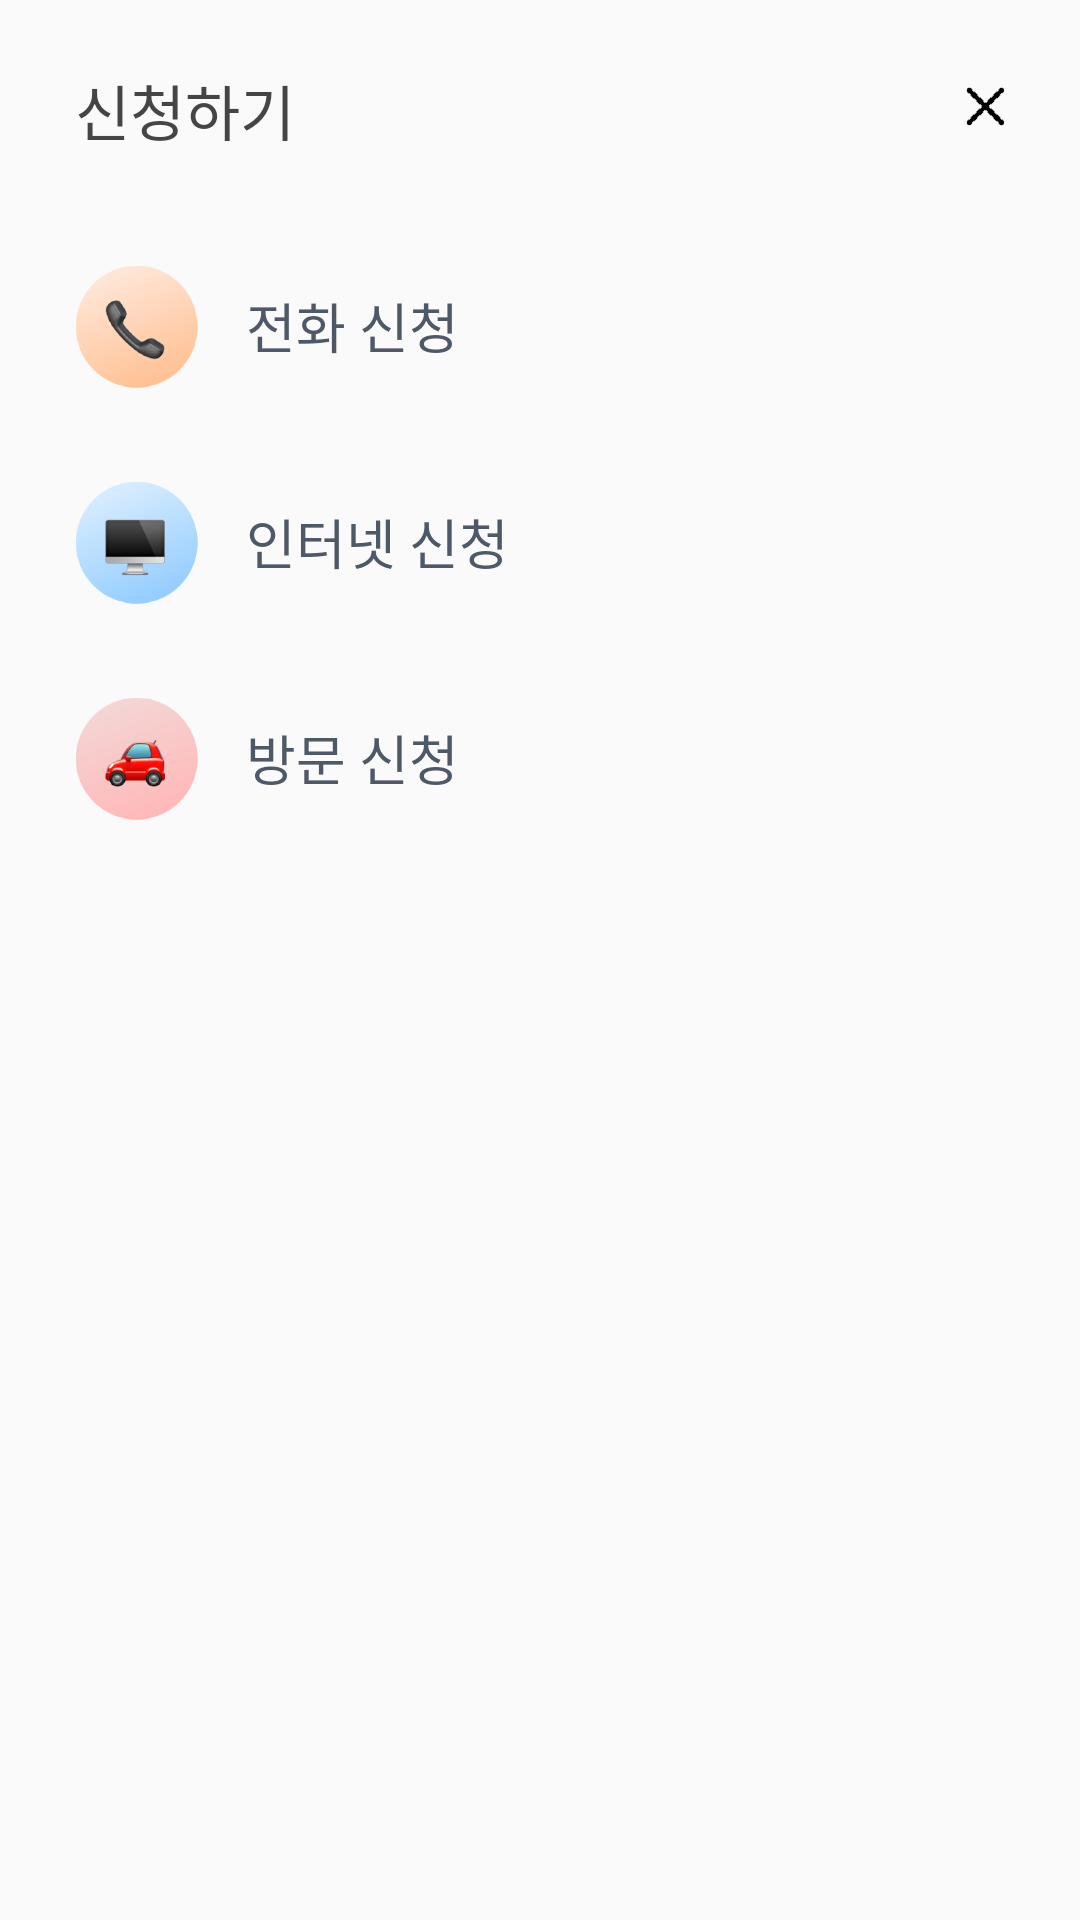

Point at icon controls on the screen. Image size 1080 x 1920, points as (x=x, y=y).
call: (x=137, y=327)
close: (x=985, y=106)
